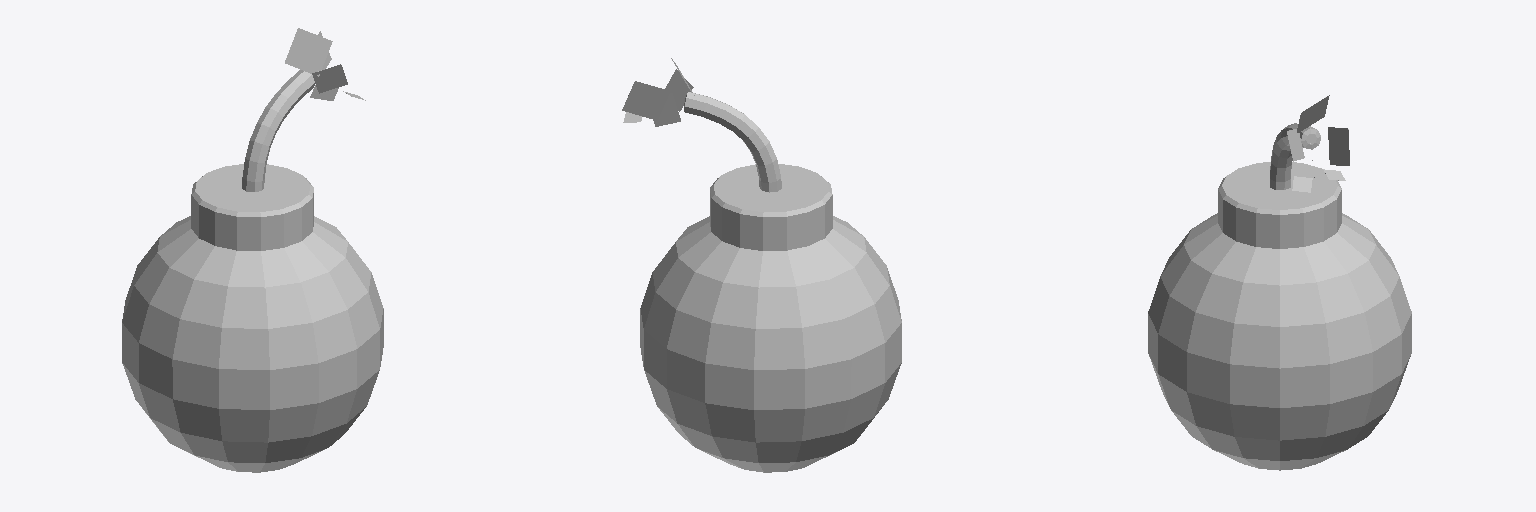
File: bomb_000023.obj
3 renders of one model, left to right at view 1: azimuth 30°, elevation 25°; view 2: azimuth 150°, elevation 25°; view 3: azimuth 270°, elevation 25°, orthographic.
Visible parts, largest first — view 1: Sphere, NurbsPath, Plane_5.001_Mesh.001; view 2: Sphere, NurbsPath, Plane_5.001_Mesh.001; view 3: Sphere, Plane_5.001_Mesh.001, NurbsPath.
Boxes of the visible parts, x1=… form: Sphere: x1=122, y1=164, x2=383, y2=472; NurbsPath: x1=242, y1=70, x2=315, y2=191; Plane_5.001_Mesh.001: x1=285, y1=28, x2=365, y2=100; Sphere: x1=640, y1=164, x2=901, y2=472; NurbsPath: x1=684, y1=92, x2=781, y2=192; Plane_5.001_Mesh.001: x1=622, y1=58, x2=694, y2=126; Sphere: x1=1148, y1=162, x2=1411, y2=470; Plane_5.001_Mesh.001: x1=1287, y1=95, x2=1349, y2=192; NurbsPath: x1=1270, y1=123, x2=1320, y2=189.
Size of the model in its own units: 0.8513 by 1.34 by 0.8282.